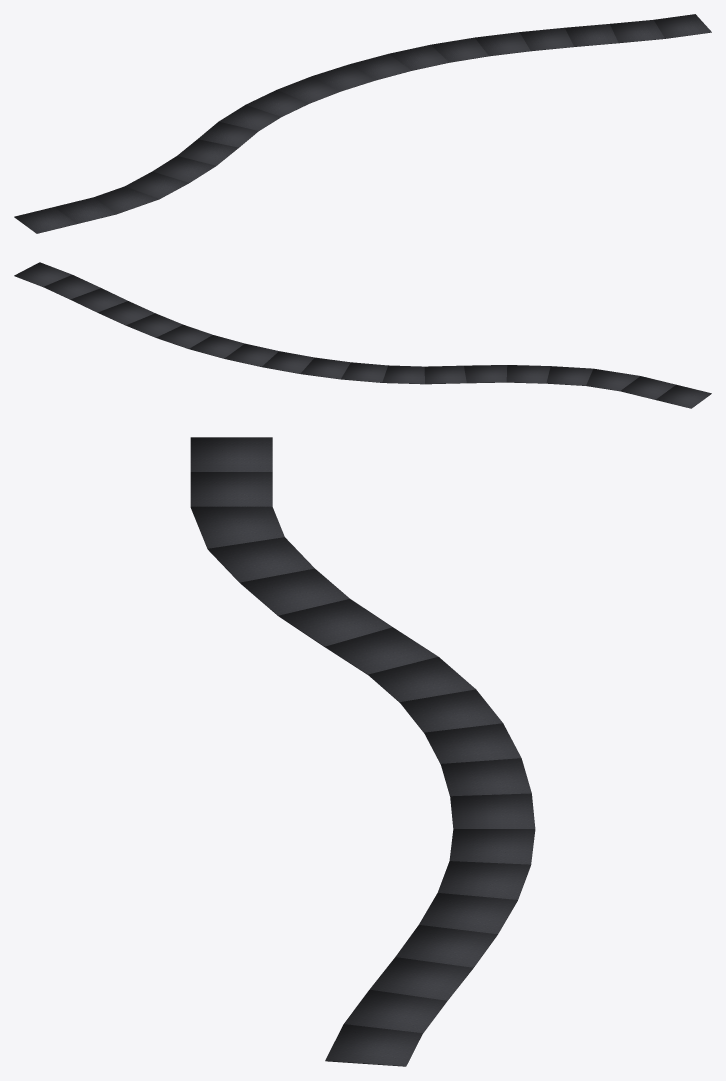
File: pit_lane.obj
The picture shows the model from 3 angles, top to bottom: view 1: azimuth 30°, elevation 25°; view 2: azimuth 150°, elevation 25°; view 3: azimuth 270°, elevation 25°; orthographic projection. The views are drawn at different scales.
Parts seen in each view (by area): view 1: pit_lane_Cube.007; view 2: pit_lane_Cube.007; view 3: pit_lane_Cube.007.
Part boxes in pixels (box(x1,y1,x2,y2)): pit_lane_Cube.007: box(14, 14, 711, 233); pit_lane_Cube.007: box(14, 262, 711, 408); pit_lane_Cube.007: box(190, 437, 535, 1066).
Size of the model in its own units: 54.41 by 0.033 by 12.61.
Materials: 1 (1 with a texture image).
